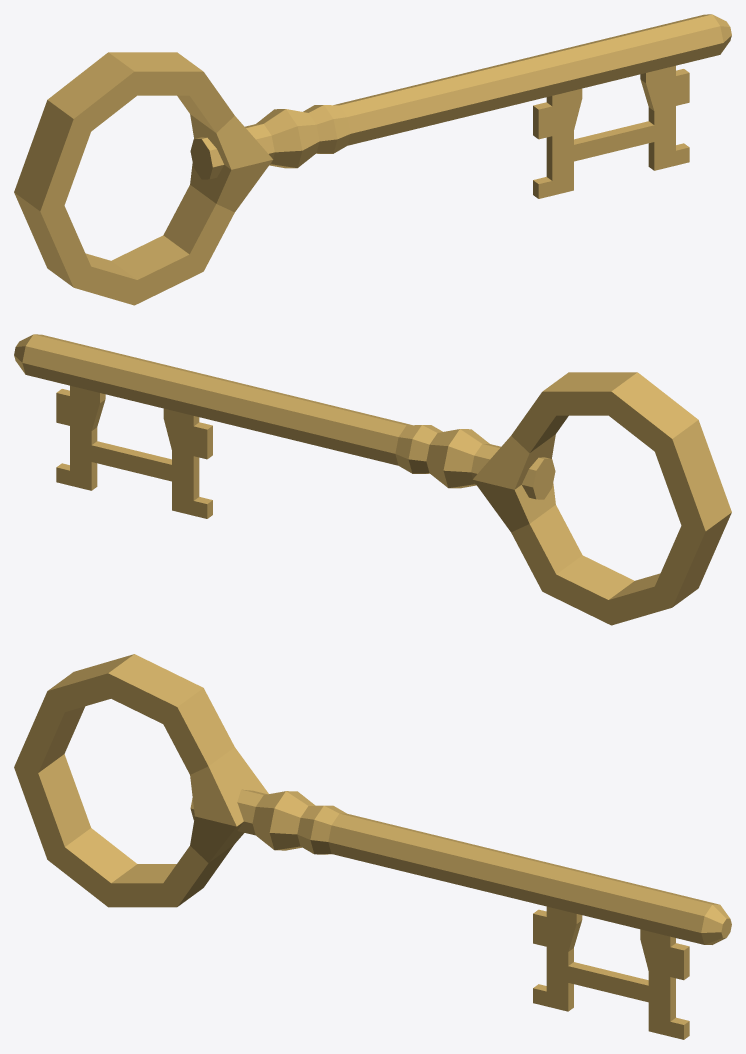
Rendered from Key.fbx.
The picture shows the model from 3 angles, top to bottom: view 1: azimuth 30°, elevation 25°; view 2: azimuth 150°, elevation 25°; view 3: azimuth 330°, elevation 25°; orthographic projection.
Visible parts, largest first — view 1: Key; view 2: Key; view 3: Key.
Part boxes in pixels (left/top/right/bottom): Key: left=14, top=14, right=731, bottom=305; Key: left=14, top=334, right=731, bottom=625; Key: left=14, top=654, right=731, bottom=1039.
Size of the model in its own units: 49.1 by 15.85 by 4.44.
